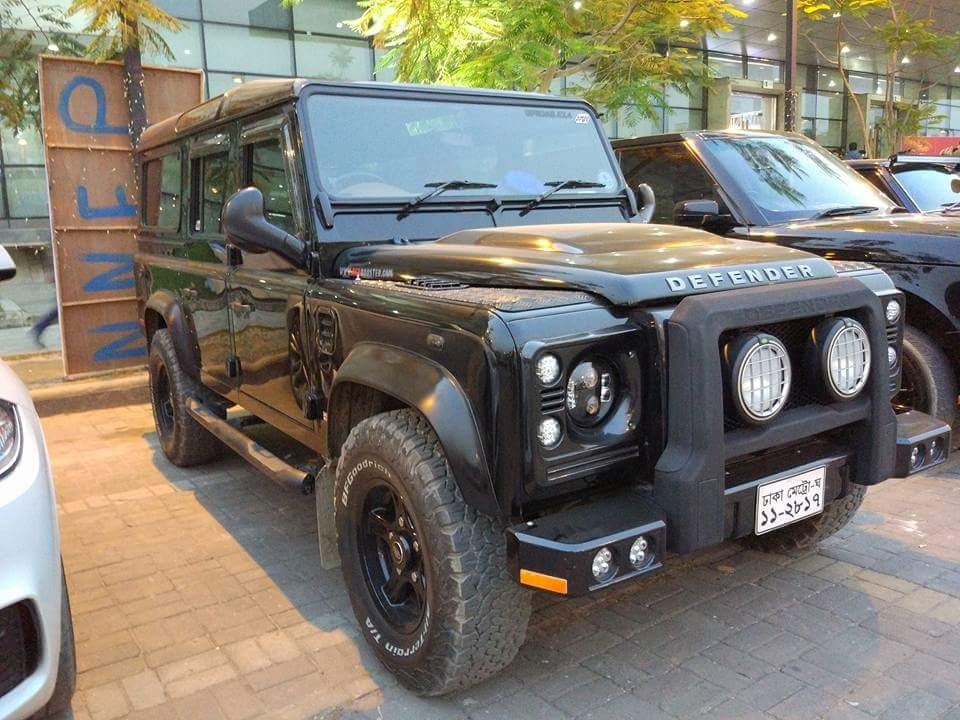registration_plate: (754, 463, 827, 537)
